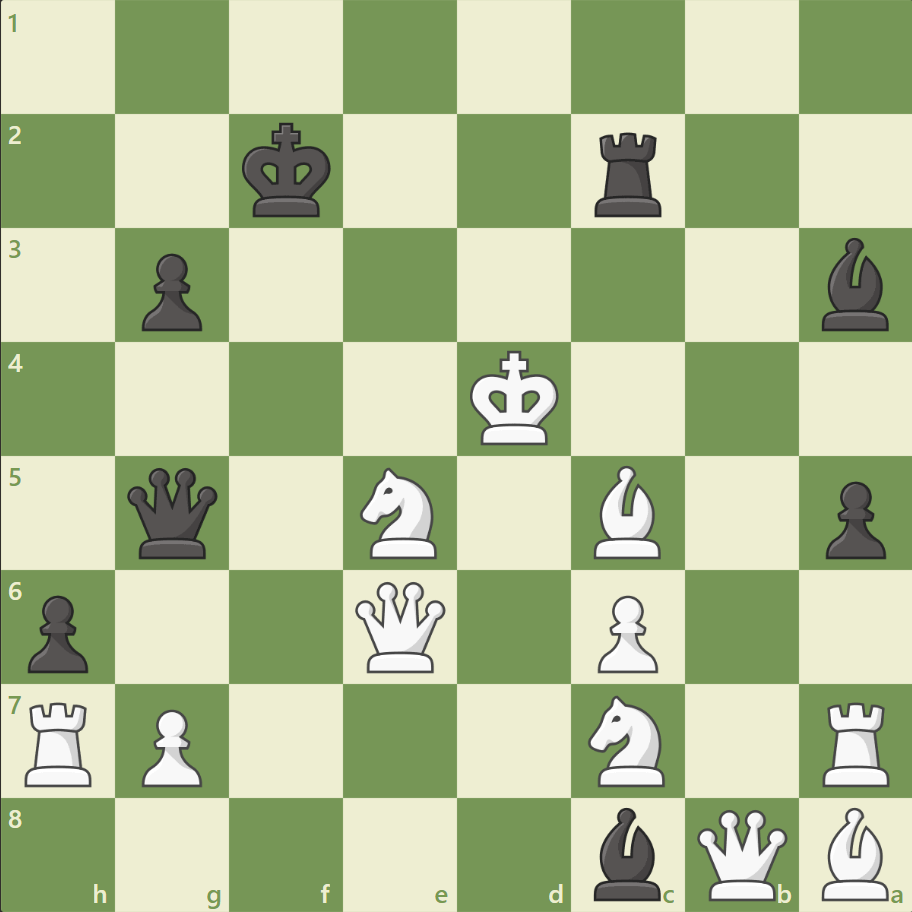B: (812, 801, 896, 904), (585, 460, 669, 563)
K: (465, 344, 565, 452)
N: (351, 461, 449, 564), (579, 688, 676, 791)
P: (133, 700, 208, 791), (588, 586, 662, 677)
Q: (351, 576, 450, 676), (691, 804, 790, 903)
R: (814, 693, 897, 790), (19, 693, 102, 790)
b: (585, 801, 669, 904), (812, 233, 896, 336)
k: (238, 117, 338, 225)
p: (20, 586, 95, 677), (133, 246, 208, 337), (815, 473, 889, 564)
q: (124, 463, 223, 562)
r: (587, 125, 670, 222)
